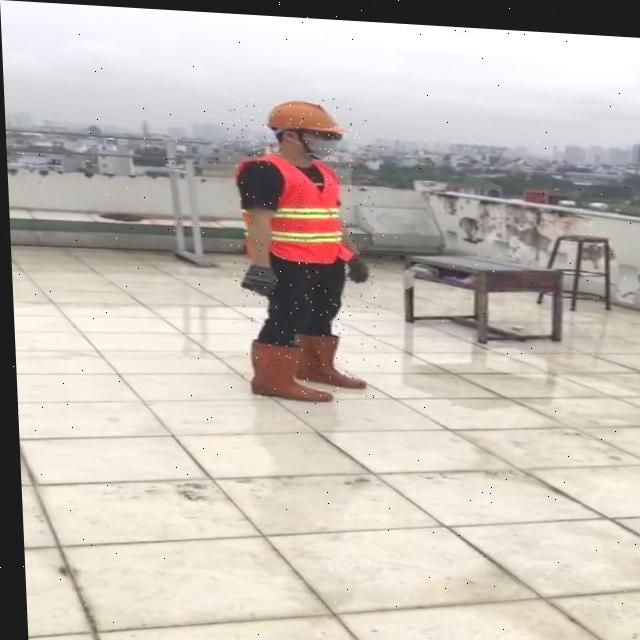Gloves: (237, 260, 276, 294), (344, 252, 367, 279)
Helmet: (262, 94, 344, 136)
Safety-Boot: (244, 336, 328, 398), (291, 328, 363, 385)
Safety-Vest: (233, 148, 355, 263)
